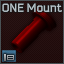Gemtech ONE direct thread mount adapter: (0, 0, 64, 64)
